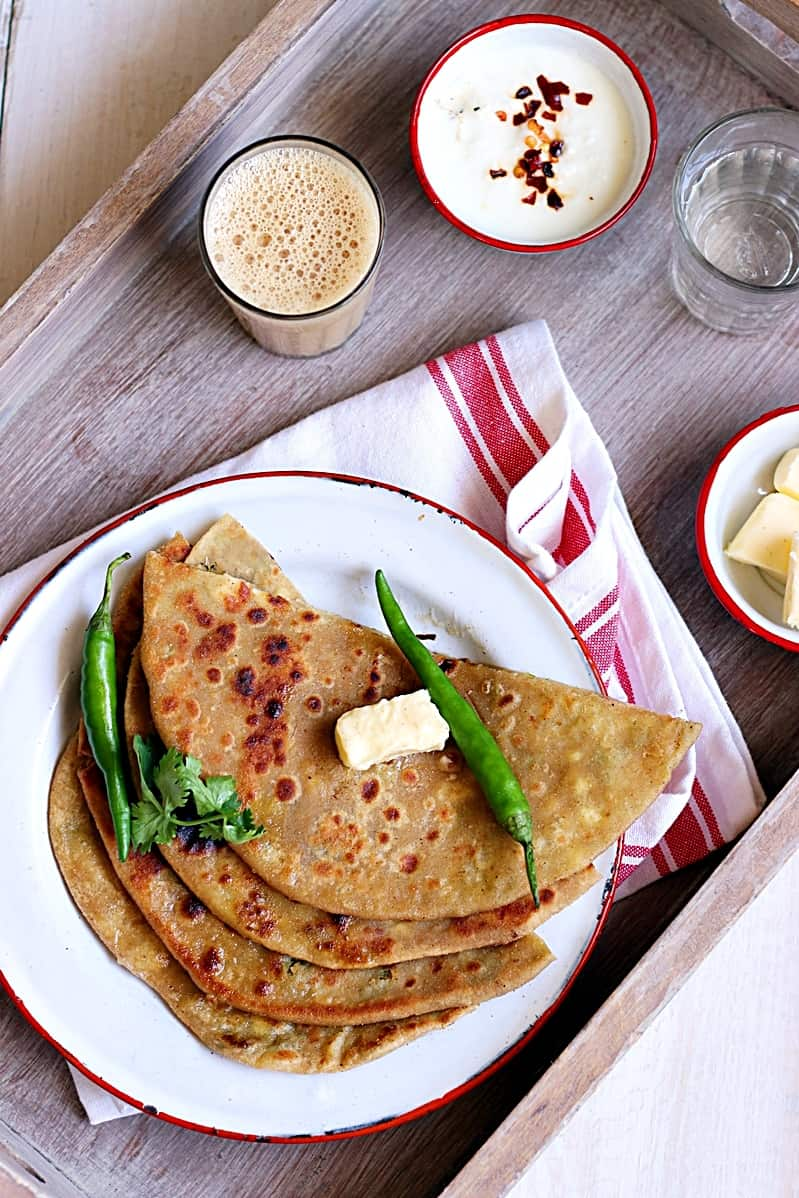aloo_paratha: (30, 521, 714, 1077)
